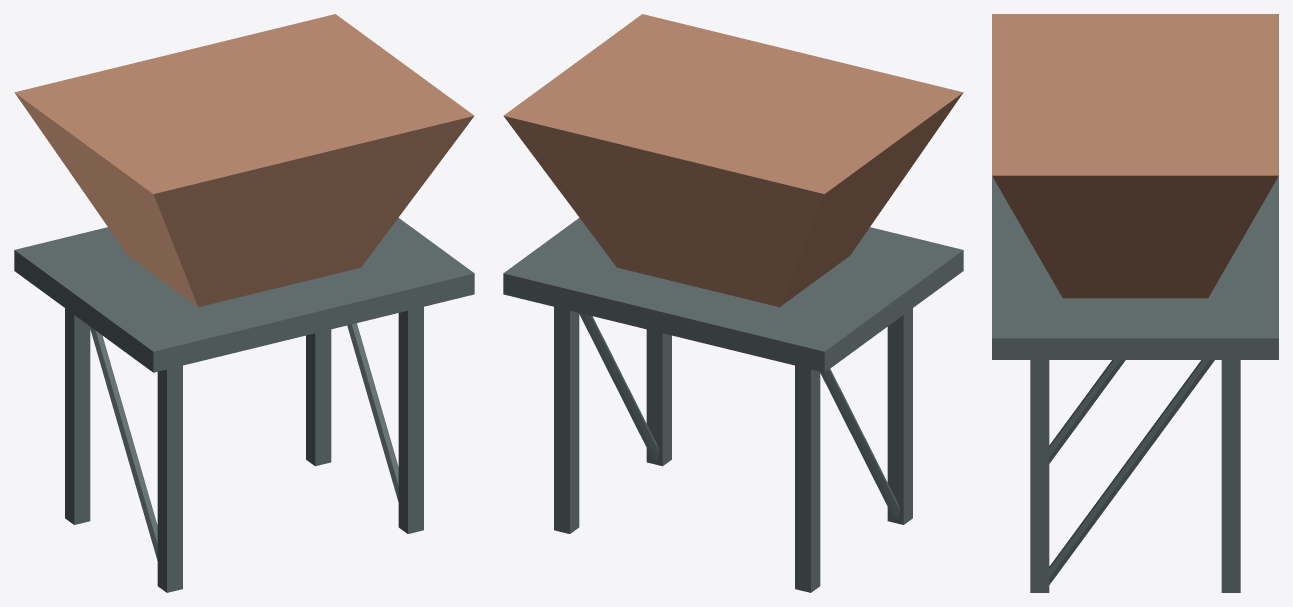
3 views of the same model, side by side, from view 1: azimuth 30°, elevation 25°; view 2: azimuth 150°, elevation 25°; view 3: azimuth 270°, elevation 25° (orthographic). The views are drawn at different scales.
Size of the model in its own units: 8 by 10.06 by 6.
